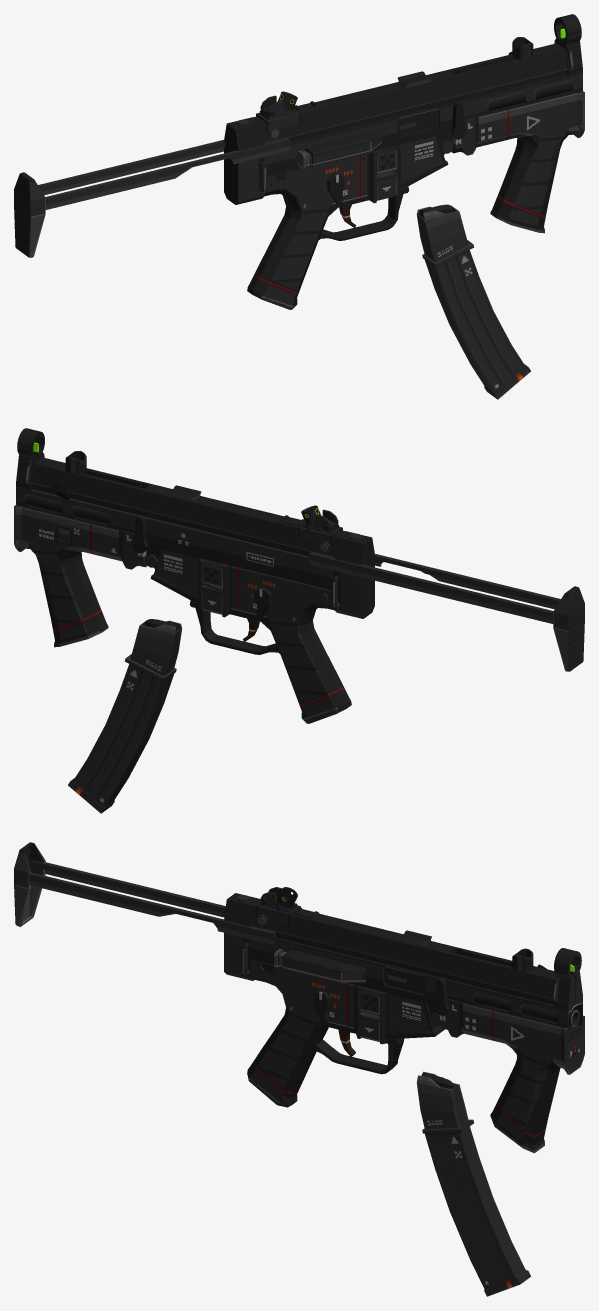
Rendered from SMG SightFix BL.fbx.
3 views of the same model, one above another, from view 1: azimuth 30°, elevation 25°; view 2: azimuth 150°, elevation 25°; view 3: azimuth 330°, elevation 25° (orthographic).
Visible parts, largest first — view 1: SMG_Mesh, SMG_Mag_Mesh, Bolt_Mesh; view 2: SMG_Mesh, SMG_Mag_Mesh; view 3: SMG_Mesh, SMG_Mag_Mesh, Bolt_Mesh.
Boxes of the visible parts, x1,y1,x2,y2 form: SMG_Mesh: [14, 14, 584, 309]; SMG_Mag_Mesh: [416, 204, 530, 399]; Bolt_Mesh: [397, 51, 512, 136]; SMG_Mesh: [14, 428, 584, 723]; SMG_Mag_Mesh: [68, 619, 182, 813]; SMG_Mesh: [14, 842, 584, 1153]; SMG_Mag_Mesh: [416, 1071, 530, 1296]; Bolt_Mesh: [384, 964, 546, 994].
Size of the model in its own units: 0.5718 by 0.3556 by 0.0564.
